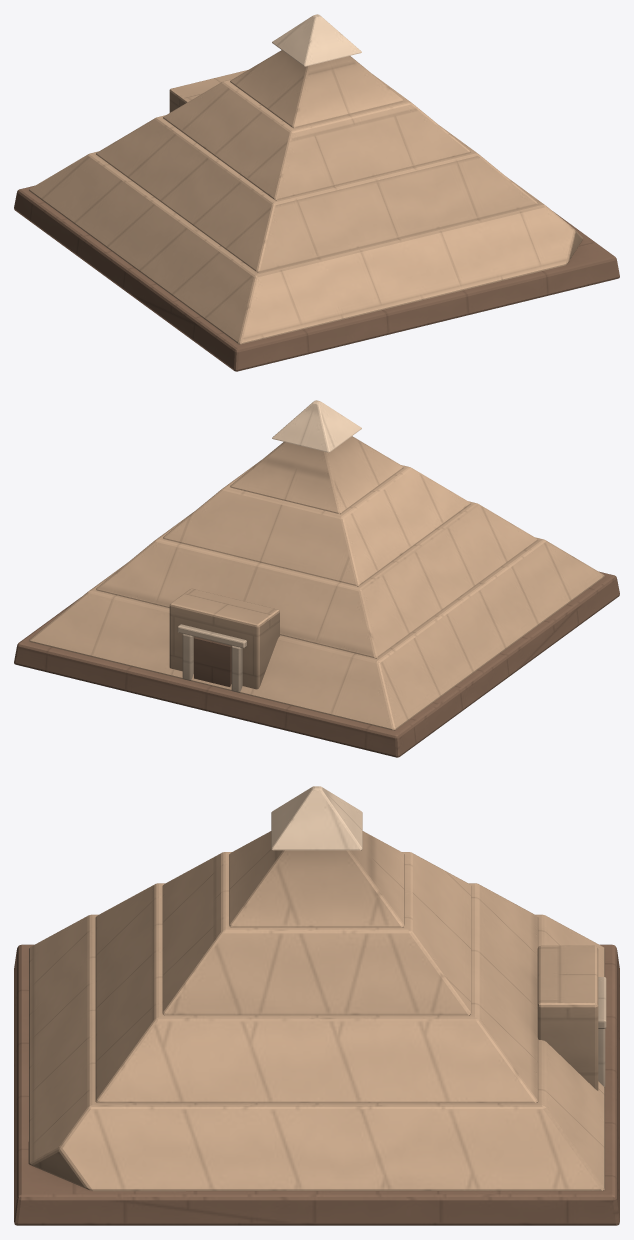
Rendered from small_pyramid.glb.
3 views of the same model, one above another, from view 1: azimuth 30°, elevation 25°; view 2: azimuth 150°, elevation 25°; view 3: azimuth 270°, elevation 25° (orthographic). The views are drawn at different scales.
Visible parts, largest first — view 1: small_pyramid_limestone_tomb, small_pyramid_limestone_socle, small_pyramid_limestone_cap; view 2: small_pyramid_limestone_tomb, small_pyramid_limestone_socle, small_pyramid_limestone_cap; view 3: small_pyramid_limestone_tomb, small_pyramid_limestone_socle, small_pyramid_limestone_cap.
Part boxes in pixels (x1,y1,x2,y2): small_pyramid_limestone_tomb: (29, 50, 582, 344); small_pyramid_limestone_socle: (14, 185, 619, 371); small_pyramid_limestone_cap: (272, 14, 361, 66); small_pyramid_limestone_tomb: (29, 436, 604, 730); small_pyramid_limestone_socle: (14, 571, 619, 757); small_pyramid_limestone_cap: (177, 400, 361, 692); small_pyramid_limestone_tomb: (28, 831, 604, 1191); small_pyramid_limestone_socle: (14, 944, 619, 1225); small_pyramid_limestone_cap: (271, 786, 606, 1087).
Bounding box in the file's own units: 3 × 1.7 × 3.
Materials: 3 (3 with a texture image).
